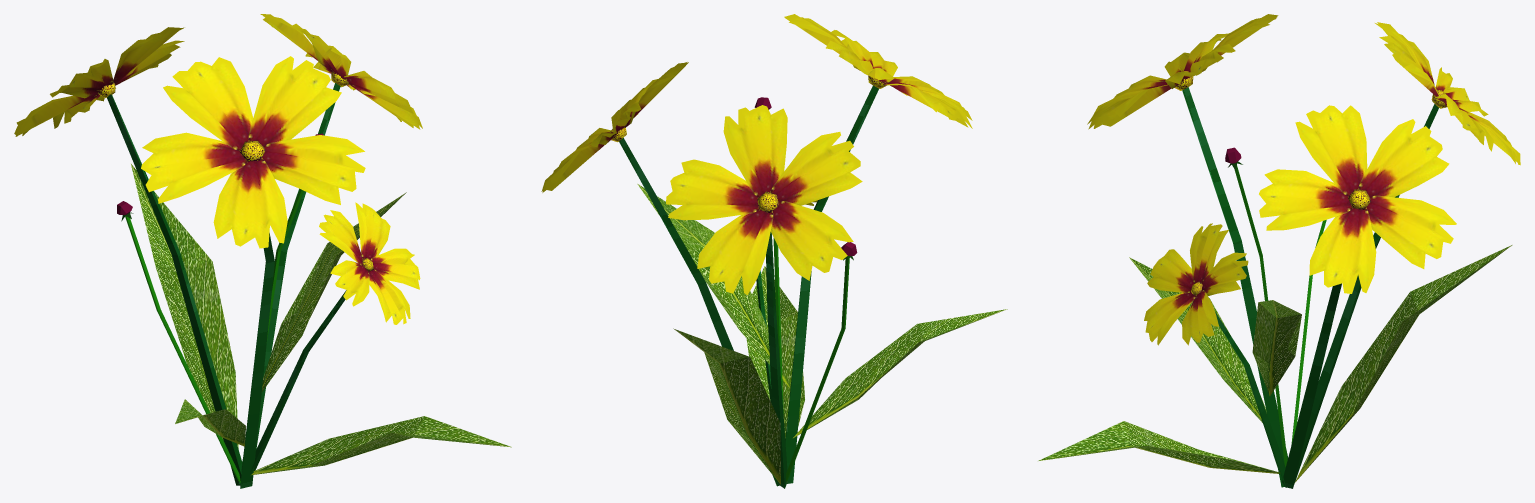
The model's file is flower_yellow.glb.
The picture shows the model from 3 angles, left to right: view 1: azimuth 30°, elevation 25°; view 2: azimuth 150°, elevation 25°; view 3: azimuth 270°, elevation 25°; orthographic projection.
Visible parts, largest first — view 1: Circle.003; view 2: Circle.003; view 3: Circle.003.
Boxes of the visible parts, x1=… form: Circle.003: x1=14, y1=14, x2=511, y2=488; Circle.003: x1=541, y1=14, x2=1007, y2=488; Circle.003: x1=1038, y1=14, x2=1520, y2=488.
Size of the model in its own units: 1.44 by 1.77 by 1.74.
Materials: 7 (4 with a texture image).
